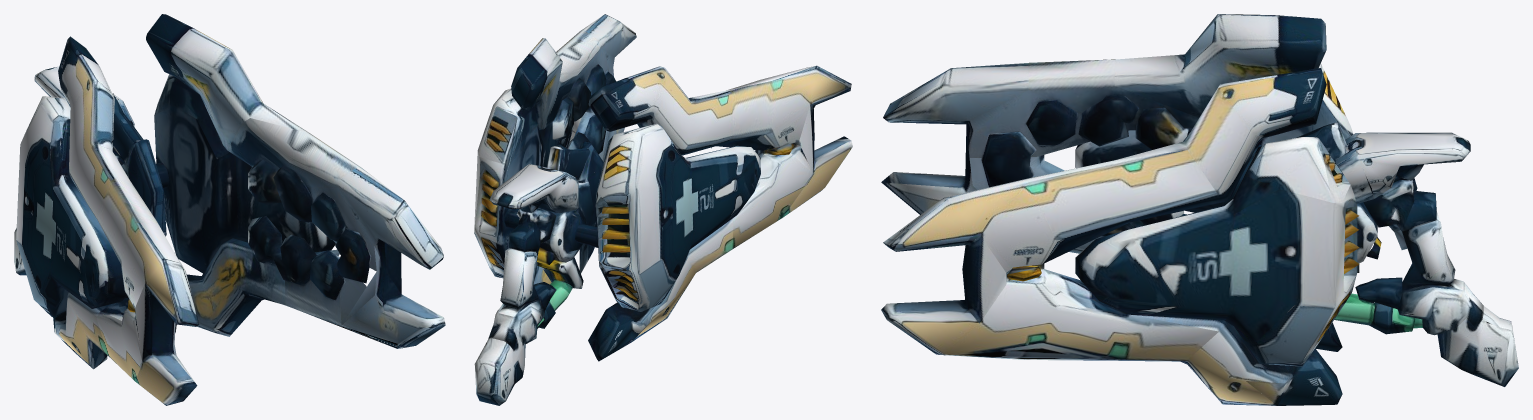
The picture shows the model from 3 angles, left to right: view 1: azimuth 30°, elevation 25°; view 2: azimuth 150°, elevation 25°; view 3: azimuth 270°, elevation 25°; orthographic projection. The views are drawn at different scales.
Visible parts, largest first — view 1: gun; view 2: gun; view 3: gun.
Boxes of the visible parts, x1,y1,x2,y2 form: gun: [14, 14, 445, 405]; gun: [474, 14, 852, 405]; gun: [881, 14, 1518, 405].
Bounding box in the file's own units: 1.92 × 2.11 × 3.6.
1 material, 1 textured.
